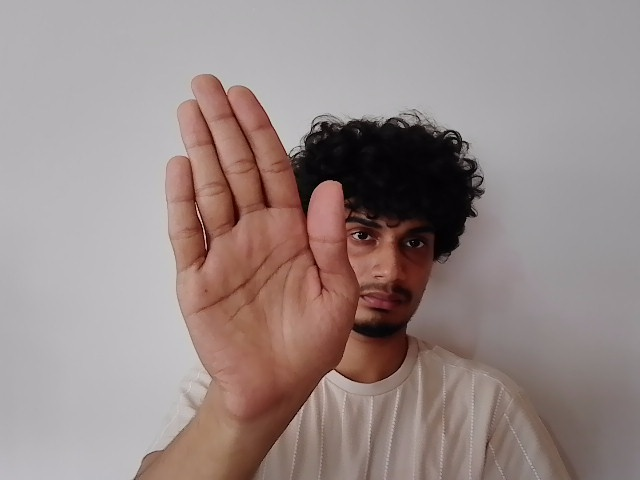hello: (164, 75, 363, 383)
